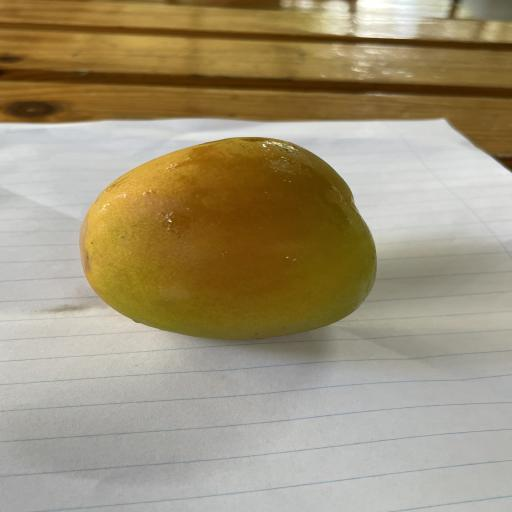unripe: (80, 137, 376, 339)
